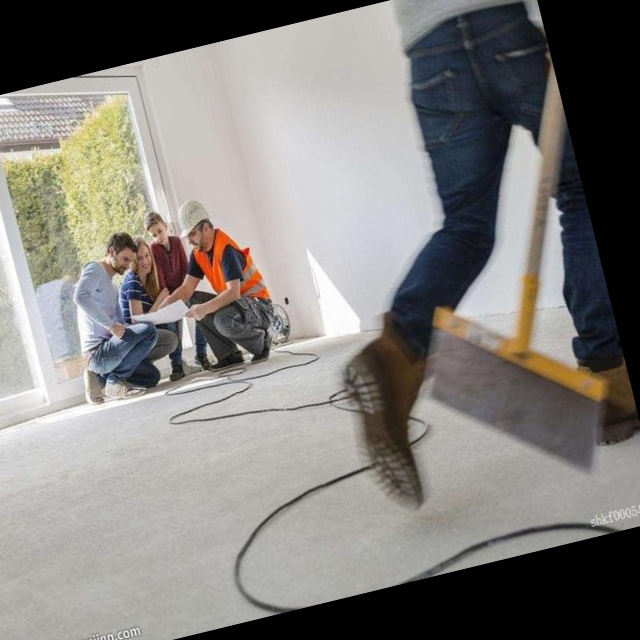Con_Chaleco: (187, 221, 273, 315)
Sin_Casco_Mascarrilla: (104, 229, 138, 275)
